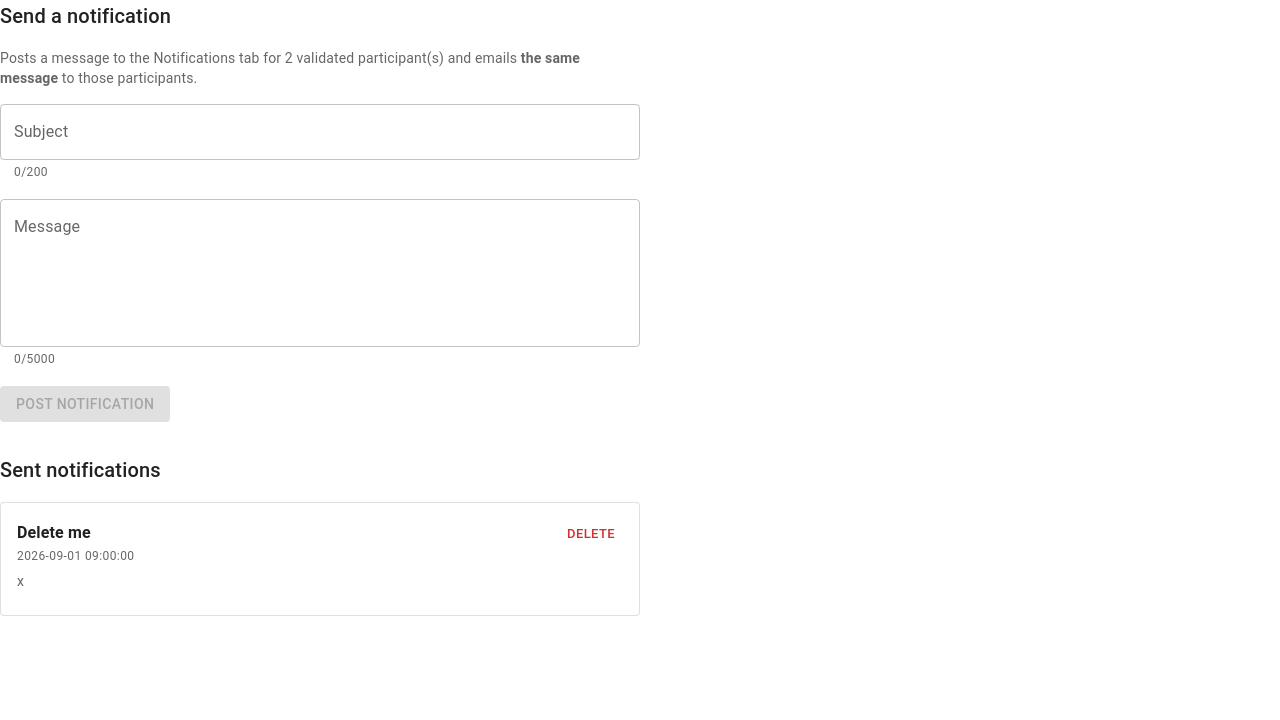
it: MessagePanel › deletes a notification after confirmation
Expected: the heading "Delete me" is shown, [17,523,91,542]
What coordinates should you click on to do the following:
click the button with aria-label "delete notification delete me"
I would click on:
 (591, 535)
Its box is [559,519,623,550].
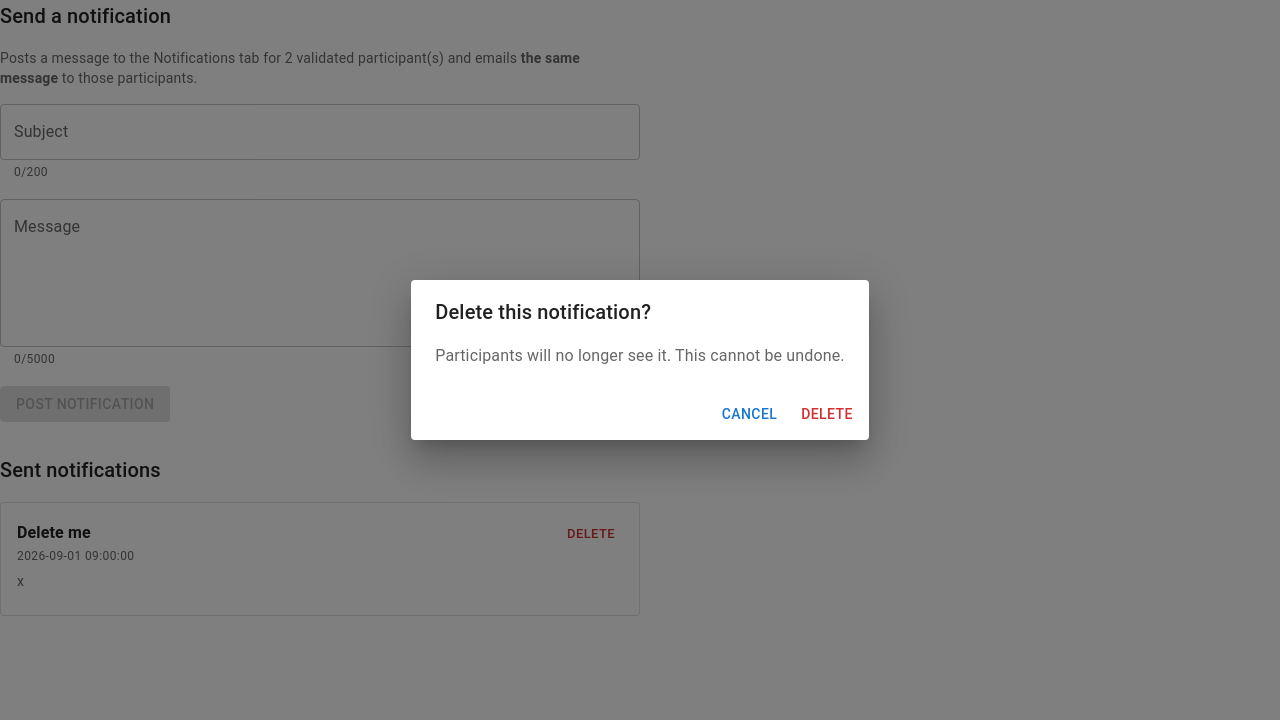
What coordinates should you click on to do the following:
click the button "Delete"
I would click on:
 (827, 414)
Its box is [793,396,861,432].
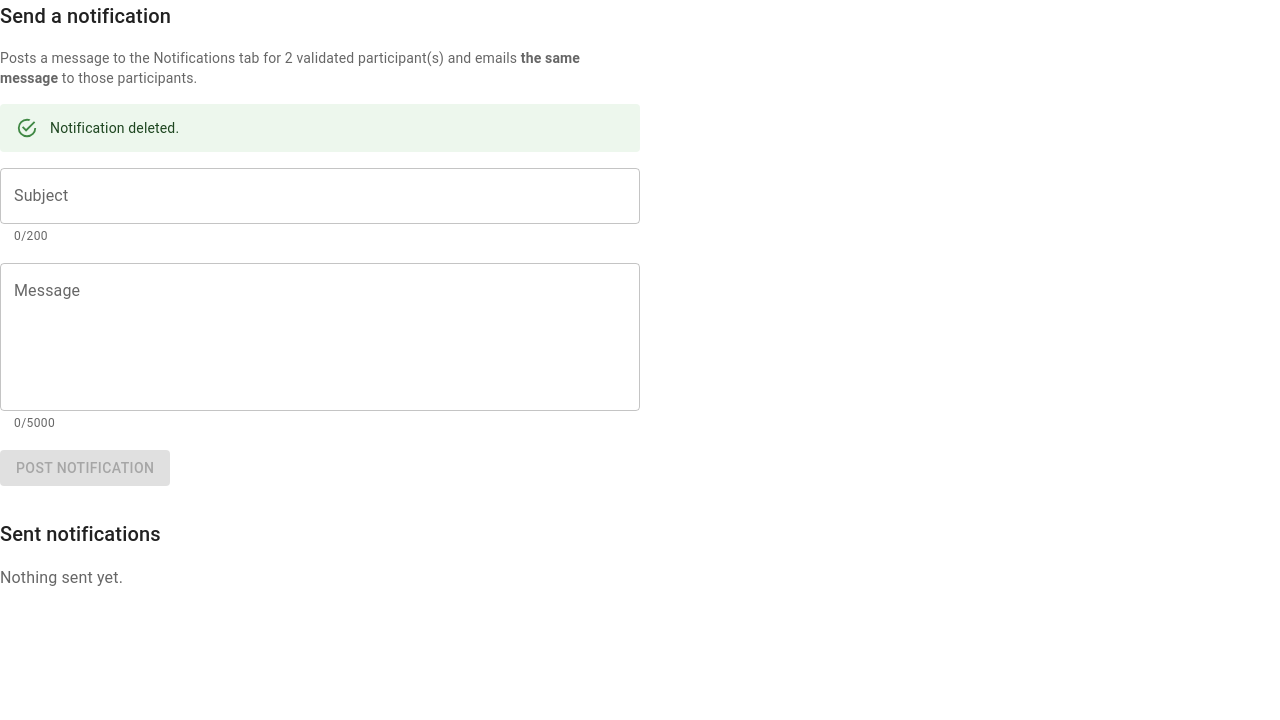
Expected: the text "Notification deleted." is shown, [50,120,179,136]
